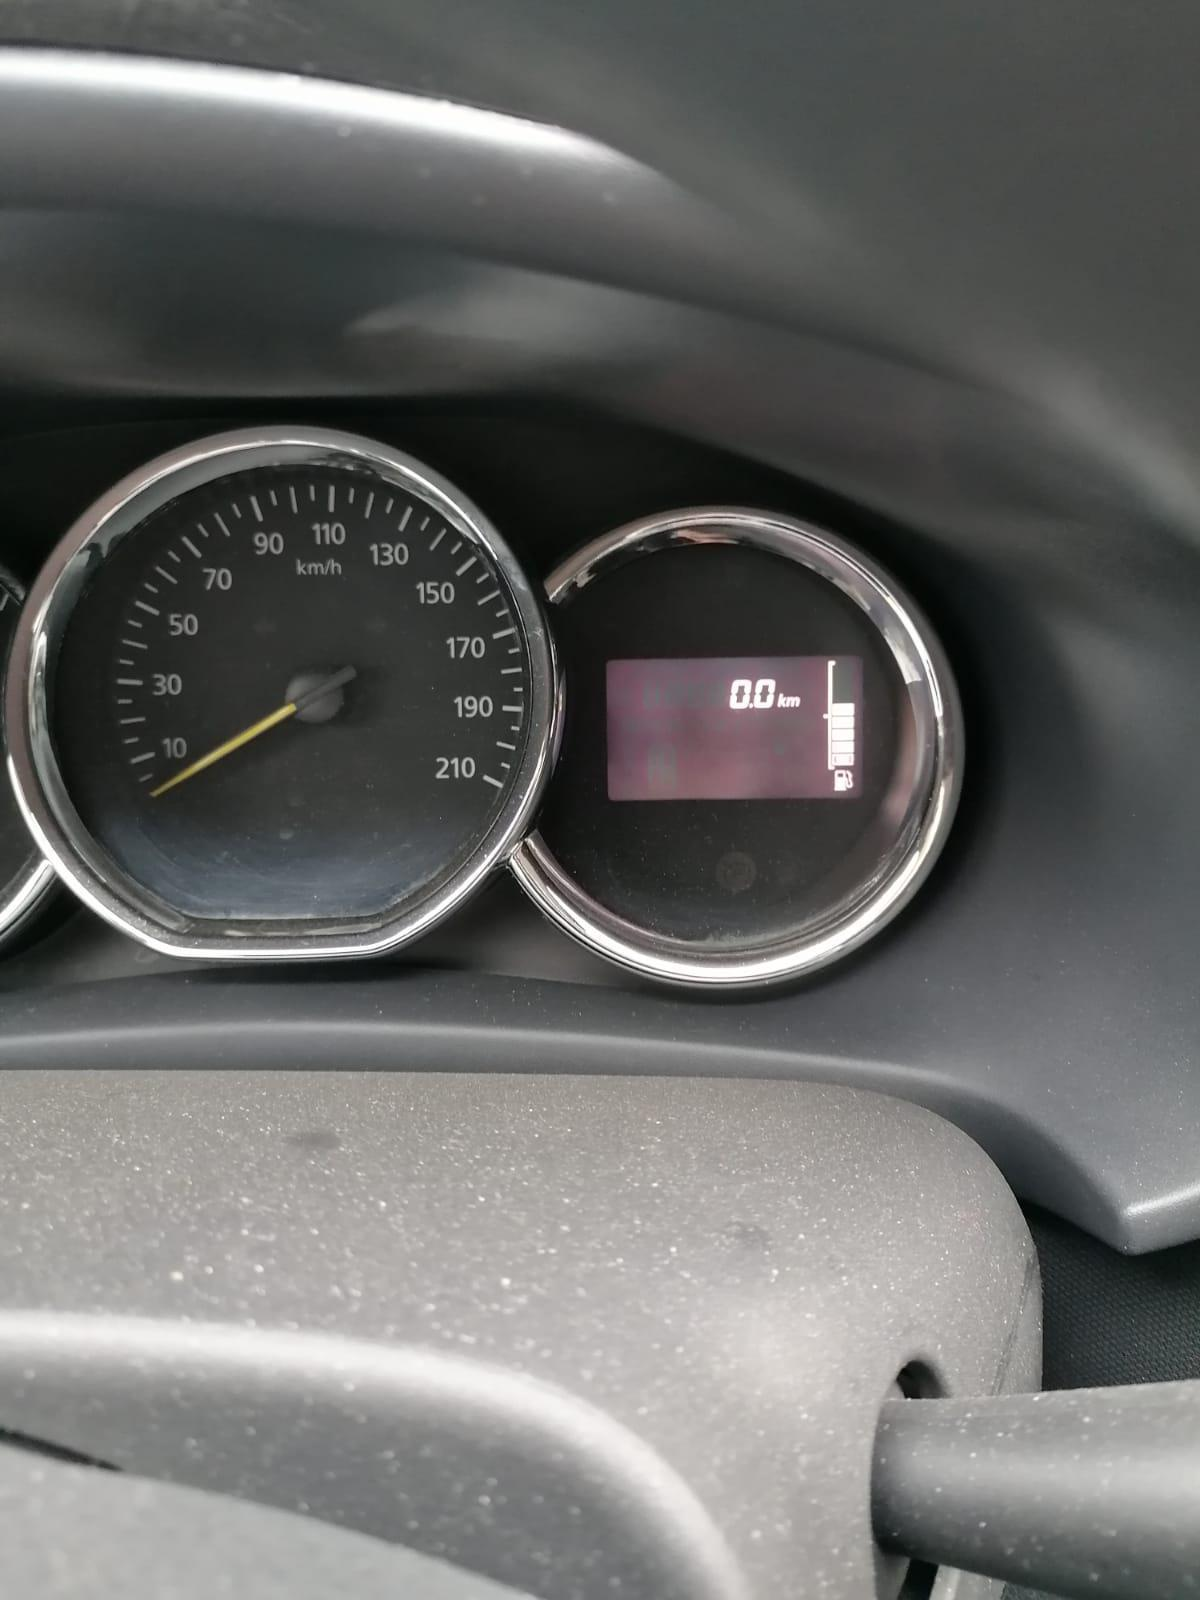,: (747, 702, 753, 709)
0: (753, 678, 776, 709), (729, 678, 751, 711)
X: (787, 695, 800, 708), (776, 692, 787, 708)
odometer: (600, 649, 872, 808)
